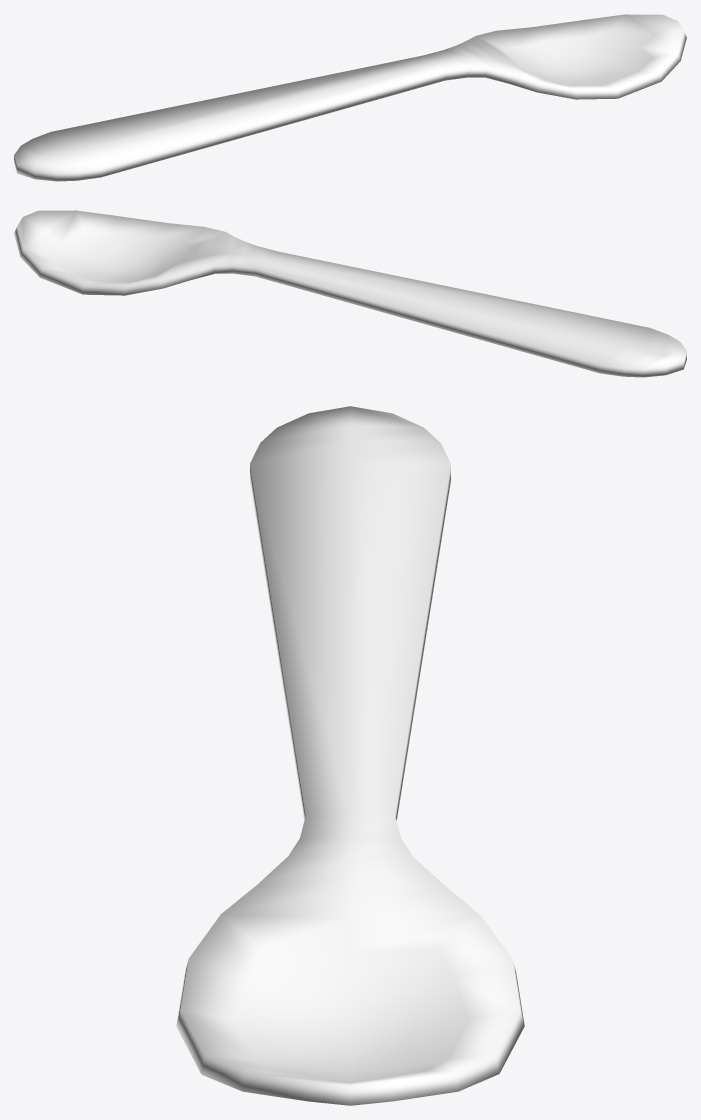
The model's file is spoon.fbx.
3 renders of one model, top to bottom at view 1: azimuth 30°, elevation 25°; view 2: azimuth 150°, elevation 25°; view 3: azimuth 270°, elevation 25°, orthographic. The views are drawn at different scales.
Visible parts, largest first — view 1: spoon; view 2: spoon; view 3: spoon.
Part boxes in pixels (<box>): spoon: <box>14,14,686,181</box>; spoon: <box>14,210,686,377</box>; spoon: <box>176,406,524,1105</box>.
Size of the model in its own units: 516 by 39.17 by 117.
